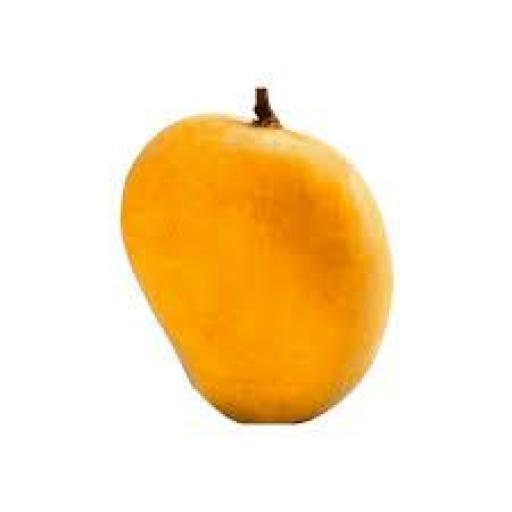mango: (123, 92, 391, 420)
